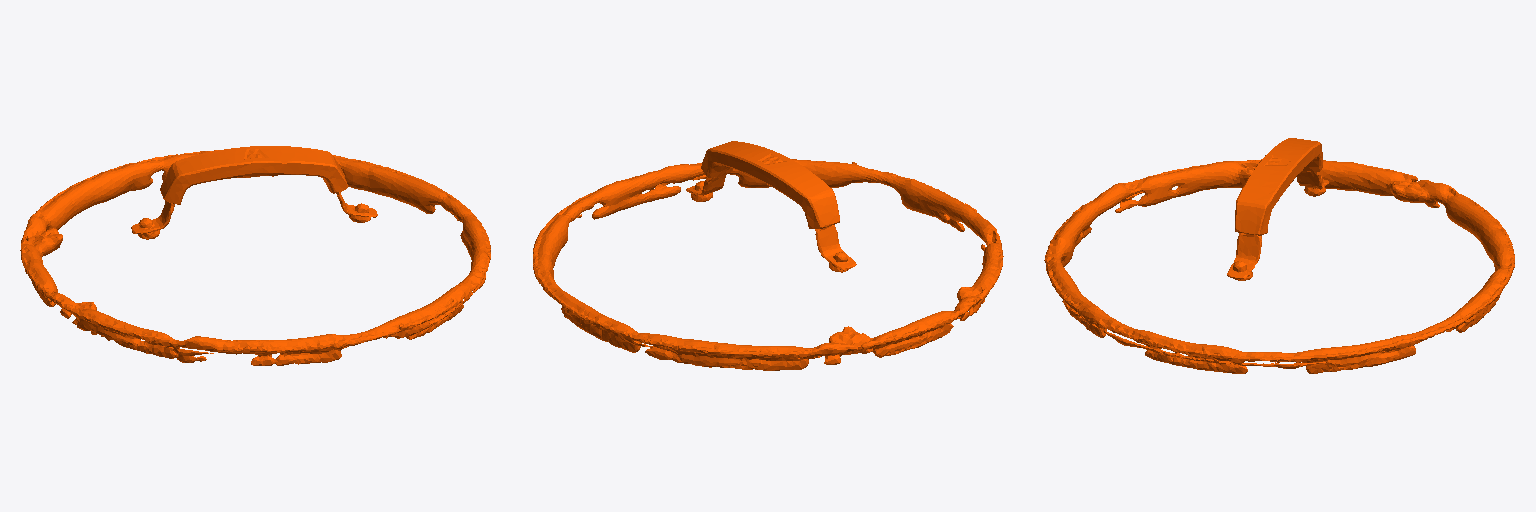
The robot description file, URDF, robot "028_skillet_lid":
<?xml version="1.0" ?>
<robot name="028_skillet_lid">
   <material name="obj_color">
      <color rgba="1.0 0.423529411765 0.0392156862745 1.0"/>
   </material>
   <link name="top">
      <inertial>
         <origin rpy="0.001194014644034213 0.001344487173080175 0.002315620745250694" xyz="-0.00611951538718874 0.006499704508643983 0.00959890591537276"/>
         <mass value="0.1921823543738257"/>
         <inertia ixx="0.001294036626580891" ixy="7.103296897044386e-05" ixz="-6.973874597306448e-07" iyy="0.001244548414956682" iyz="9.441081944101115e-06" izz="0.002315537520827509"/>
      </inertial>
      <visual>
         <origin rpy="0 0 0" xyz="0 0 0"/>
         <geometry>
            <mesh filename="top_watertight_tiny.stl" scale="1 1 1"/>
         </geometry>
         <material name="obj_color"/>
      </visual>
      <collision>
         <origin rpy="0 0 0" xyz="0 0 0"/>
         <geometry>
            <mesh filename="top_watertight_tiny.obj" scale="1 1 1"/>
         </geometry>
      </collision>
   </link>
   <link name="bottom">
      <inertial>
         <origin rpy="1.633333333199431e-08 1.633333333199431e-08 1.633333333362855e-08" xyz="0.3464080000000008 0.3464080000000008 0.3464080000000008"/>
         <mass value="0.0009800000000000017"/>
         <inertia ixx="1.633333333253906e-08" ixy="5.447480642029219e-19" ixz="5.447480642029219e-19" iyy="1.633333333253906e-08" iyz="5.447480642029219e-19" izz="1.633333333253906e-08"/>
      </inertial>
      <visual>
         <origin rpy="0 0 0" xyz="0 0 0"/>
         <geometry>
            <mesh filename="bottom_watertight_tiny.stl" scale="1 1 1"/>
         </geometry>
         <material name="obj_color"/>
      </visual>
   </link>
   <joint name="rotation" type="revolute">
      <origin xyz="0 0 0"/>
      <axis xyz="0 0 -1"/>
      <parent link="bottom"/>
      <child link="top"/>
      <dynamics damping="1.0" friction="1.0"/>
      <limit effort="0.1" velocity="0.1" lower="0" upper="0.001"/>
   </joint>
</robot>

--- Render facts (derived) ---
3 views of the same robot in one strip: view 1: azimuth 30°, elevation 25°; view 2: azimuth 150°, elevation 25°; view 3: azimuth 270°, elevation 25° (orthographic).
Model 028_skillet_lid with 2 links and 1 joints (1 revolute), rooted at bottom, posed every joint at zero.
Visible links, largest first — view 1: top; view 2: top; view 3: top.
Link boxes in pixels (<box>): top: <box>20,146,490,365</box>; top: <box>533,141,1003,370</box>; top: <box>1044,138,1514,373</box>.
Size in the robot's own frame: 0.2683 by 0.2692 by 0.0761 metres.
Meshes: 2 distinct files referenced, 1 mesh visuals loaded (1 binary STL); not drawn: 1 (reference not matched to a file when rendering).
